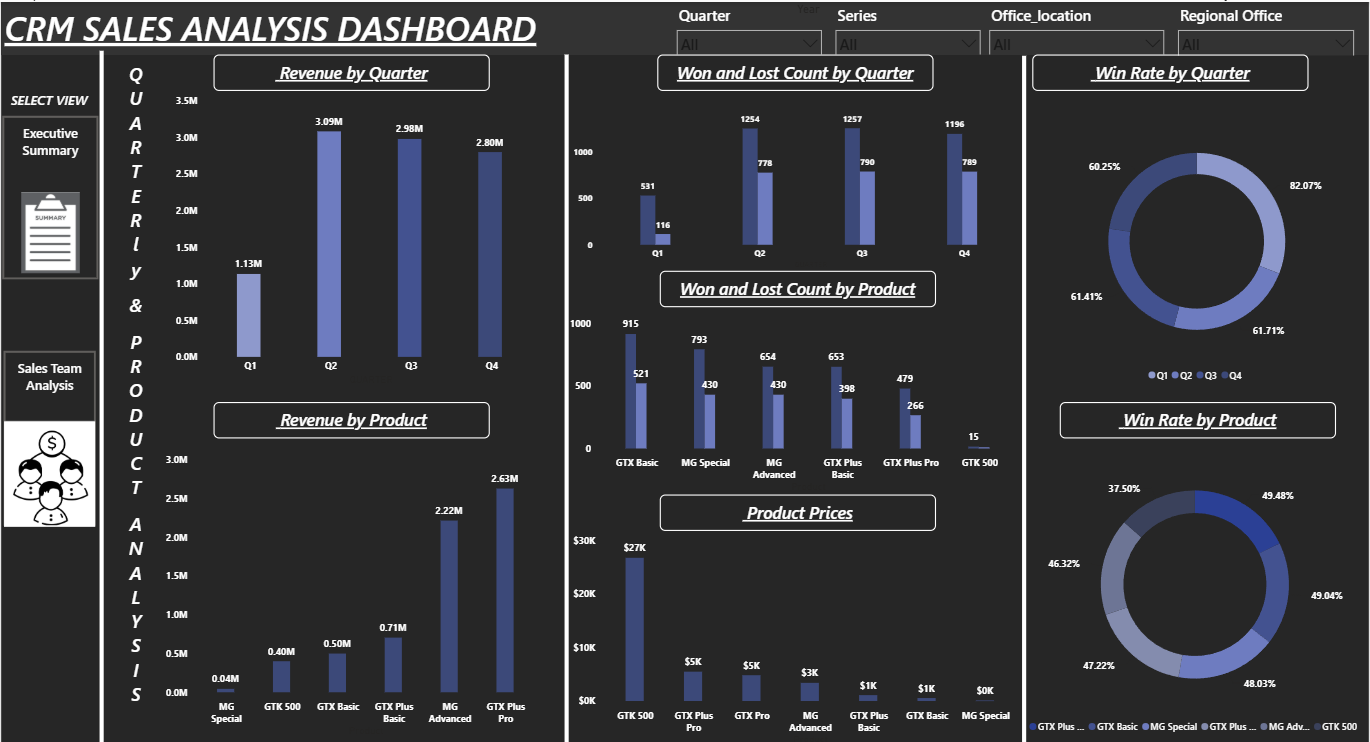

The dashboard page shown, as its layout file describes it:
{"tool":"powerbi","page":{"name":"Quarter and Product Analysis","canvas":[1980,1080],"ordinal":2},"visuals":[{"type":"shape","box":[0,0,1979.2,77],"z":0},{"type":"actionButton","box":[1.8,164.7,139.3,237.1],"z":0,"group":"g1"},{"type":"actionButton","box":[3.6,504.9,133.9,253.4],"z":0,"group":"g2"},{"type":"textbox","box":[0,0,834.3,77.8],"z":1000},{"type":"textbox","box":[1.8,171.4,139.3,67.3],"z":1000,"group":"g1"},{"type":"textbox","box":[3.6,512.1,133.9,71.9],"z":1000,"group":"g2"},{"type":"shape","box":[133.9,70.6,23.5,1002.6],"z":2000},{"type":"image","box":[18.7,275.7,107.3,117.7],"z":2000,"group":"g1"},{"type":"image","box":[3.6,606.4,133.9,153.8],"z":2000,"group":"g2"},{"type":"slicer","fields":{"Values":["SalesTeam_Clean.Regional_office"]},"box":[1693.8,0,275.1,77.8],"z":3000},{"type":"slicer","fields":{"Values":["Account_Clean.Office_location"]},"box":[1420.6,0,273.3,76],"z":4000},{"type":"clusteredColumnChart","fields":{"Y":["Account_Clean.Win Deals","Account_Clean.Lost Deals"],"Category":["SalesPipeline_Clean.QUARTER"]},"box":[825.2,146.6,656.9,242.5],"z":5000},{"type":"clusteredColumnChart","fields":{"Category":["SalesPipeline_Clean.QUARTER"],"Y":["Sum(SalesPipeline_Clean.Revenue)"]},"box":[249.7,130.3,530.2,427.1],"z":6000},{"type":"donutChart","fields":{"Y":["Account_Clean.Win Rate"],"Category":["SalesPipeline_Clean.QUARTER"]},"box":[1493,164.7,475.9,392.7],"z":7000},{"type":"clusteredColumnChart","fields":{"Category":["SalesPipeline_Clean.Year"]},"box":[1147.3,0,273.3,76],"z":8000},{"type":"clusteredColumnChart","fields":{"Category":["Product_Clean.Product"],"Y":["Sum(SalesPipeline_Clean.Revenue)"]},"box":[235.3,649.7,544.7,416.2],"z":9000},{"type":"clusteredColumnChart","fields":{"Y":["Account_Clean.Win Deals","Account_Clean.Lost Deals"],"Category":["Product_Clean.Product"]},"box":[816.2,441.6,660.5,271.4],"z":10000},{"type":"clusteredColumnChart","fields":{"Category":["Product_Clean.Product"],"Y":["Avg(Product_Clean.Price)"]},"box":[825.2,765.5,651.5,313.1],"z":11000},{"type":"donutChart","fields":{"Y":["Account_Clean.Win Rate"],"Category":["Product_Clean.Product"]},"box":[1476.7,649.7,503.1,416.2],"z":12000},{"type":"textbox","box":[307.6,76,399.9,52.5],"z":13000},{"type":"textbox","box":[307.6,579.1,399.9,52.5],"z":14000},{"type":"textbox","box":[953.7,713,399.9,52.5],"z":15000},{"type":"textbox","box":[950.1,76,399.9,52.5],"z":16000},{"type":"textbox","box":[953.7,389.1,399.9,52.5],"z":17000},{"type":"textbox","box":[1493,76,399.9,52.5],"z":18000},{"type":"textbox","box":[1532.8,579.1,399.9,52.5],"z":19000},{"type":"shape","box":[807.1,76,23.5,1002.6],"z":20000},{"type":"shape","box":[1469.4,77.8,23.5,1002.6],"z":21000},{"type":"slicer","fields":{"Values":["Product_Clean.Series"]},"box":[1198,0,229.8,76],"z":22000},{"type":"textbox","box":[166.5,63.3,57.9,1017],"z":23000},{"type":"group","id":"g1","title":"Group 1","box":[1.8,164.7,139.3,237.1],"z":24000},{"type":"group","id":"g2","title":"Group 1","box":[3.6,504.9,133.9,255.2],"z":25000},{"type":"textbox","box":[3.6,124.9,132.1,50.7],"z":26000},{"type":"slicer","fields":{"Values":["SalesPipeline_Clean.QUARTER"]},"box":[968.2,0,229.8,76],"z":26001}]}

Visuals, with their boxes in screenshot pixels (x1, y1, x2, y2), scaled from the page's 1980x1080 canvas onto the 1370x742 screenshot:
shape: bbox=(0, 0, 1369, 53)
actionButton: bbox=(1, 113, 98, 276)
actionButton: bbox=(2, 347, 95, 521)
textbox: bbox=(0, 0, 577, 53)
textbox: bbox=(1, 118, 98, 164)
textbox: bbox=(2, 352, 95, 401)
shape: bbox=(93, 49, 109, 737)
image: bbox=(13, 189, 87, 270)
image: bbox=(2, 417, 95, 522)
slicer - SalesTeam_Clean.Regional_office: bbox=(1172, 0, 1362, 53)
slicer - Account_Clean.Office_location: bbox=(983, 0, 1172, 52)
clusteredColumnChart - Account_Clean.Win Deals x Account_Clean.Lost Deals: bbox=(571, 101, 1025, 267)
clusteredColumnChart - SalesPipeline_Clean.QUARTER x Sum(SalesPipeline_Clean.Revenue): bbox=(173, 90, 540, 383)
donutChart - Account_Clean.Win Rate x SalesPipeline_Clean.QUARTER: bbox=(1033, 113, 1362, 383)
clusteredColumnChart - SalesPipeline_Clean.Year: bbox=(794, 0, 983, 52)
clusteredColumnChart - Product_Clean.Product x Sum(SalesPipeline_Clean.Revenue): bbox=(163, 446, 540, 732)
clusteredColumnChart - Account_Clean.Win Deals x Account_Clean.Lost Deals: bbox=(565, 303, 1022, 490)
clusteredColumnChart - Product_Clean.Product x Avg(Product_Clean.Price): bbox=(571, 526, 1022, 741)
donutChart - Account_Clean.Win Rate x Product_Clean.Product: bbox=(1022, 446, 1369, 732)
textbox: bbox=(213, 52, 490, 88)
textbox: bbox=(213, 398, 490, 434)
textbox: bbox=(660, 490, 937, 526)
textbox: bbox=(657, 52, 934, 88)
textbox: bbox=(660, 267, 937, 303)
textbox: bbox=(1033, 52, 1310, 88)
textbox: bbox=(1061, 398, 1337, 434)
shape: bbox=(558, 52, 575, 741)
shape: bbox=(1017, 53, 1033, 741)
slicer - Product_Clean.Series: bbox=(829, 0, 988, 52)
textbox: bbox=(115, 43, 155, 741)
"Group 1" group: bbox=(1, 113, 98, 276)
"Group 1" group: bbox=(2, 347, 95, 522)
textbox: bbox=(2, 86, 94, 121)
slicer - SalesPipeline_Clean.QUARTER: bbox=(670, 0, 829, 52)
